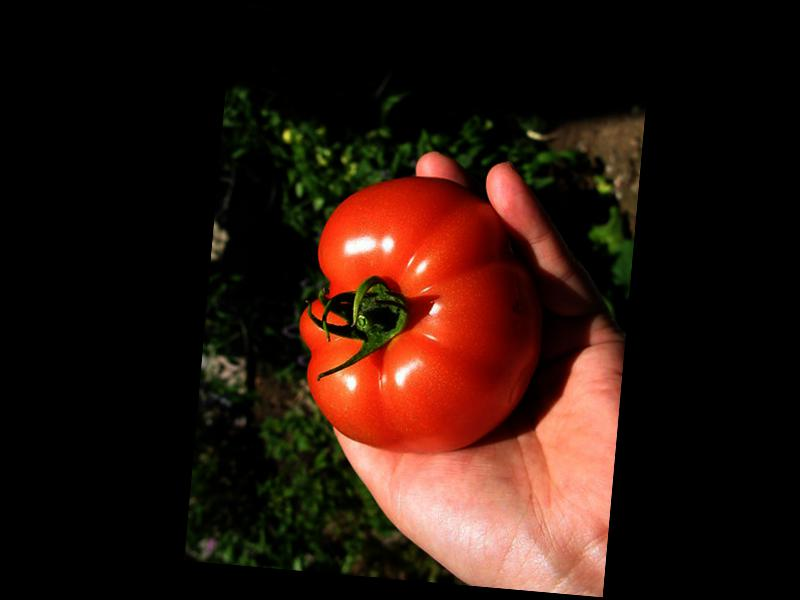Tomato: (289, 166, 551, 461)
